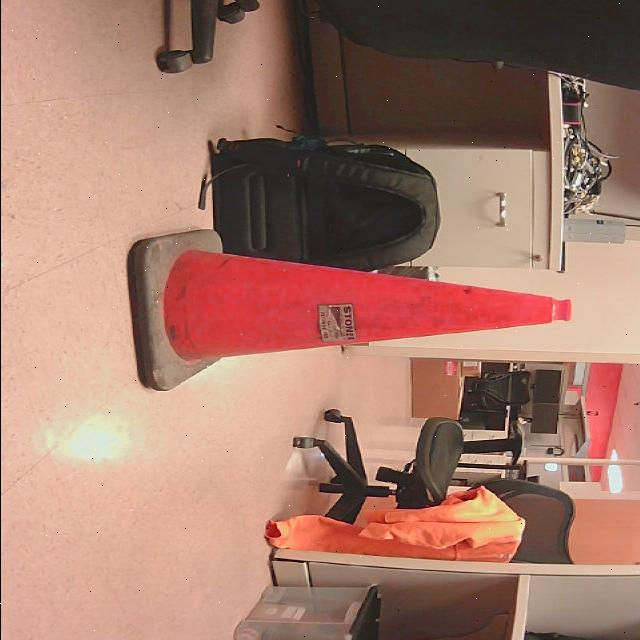traffic cone: (125, 230, 572, 392)
